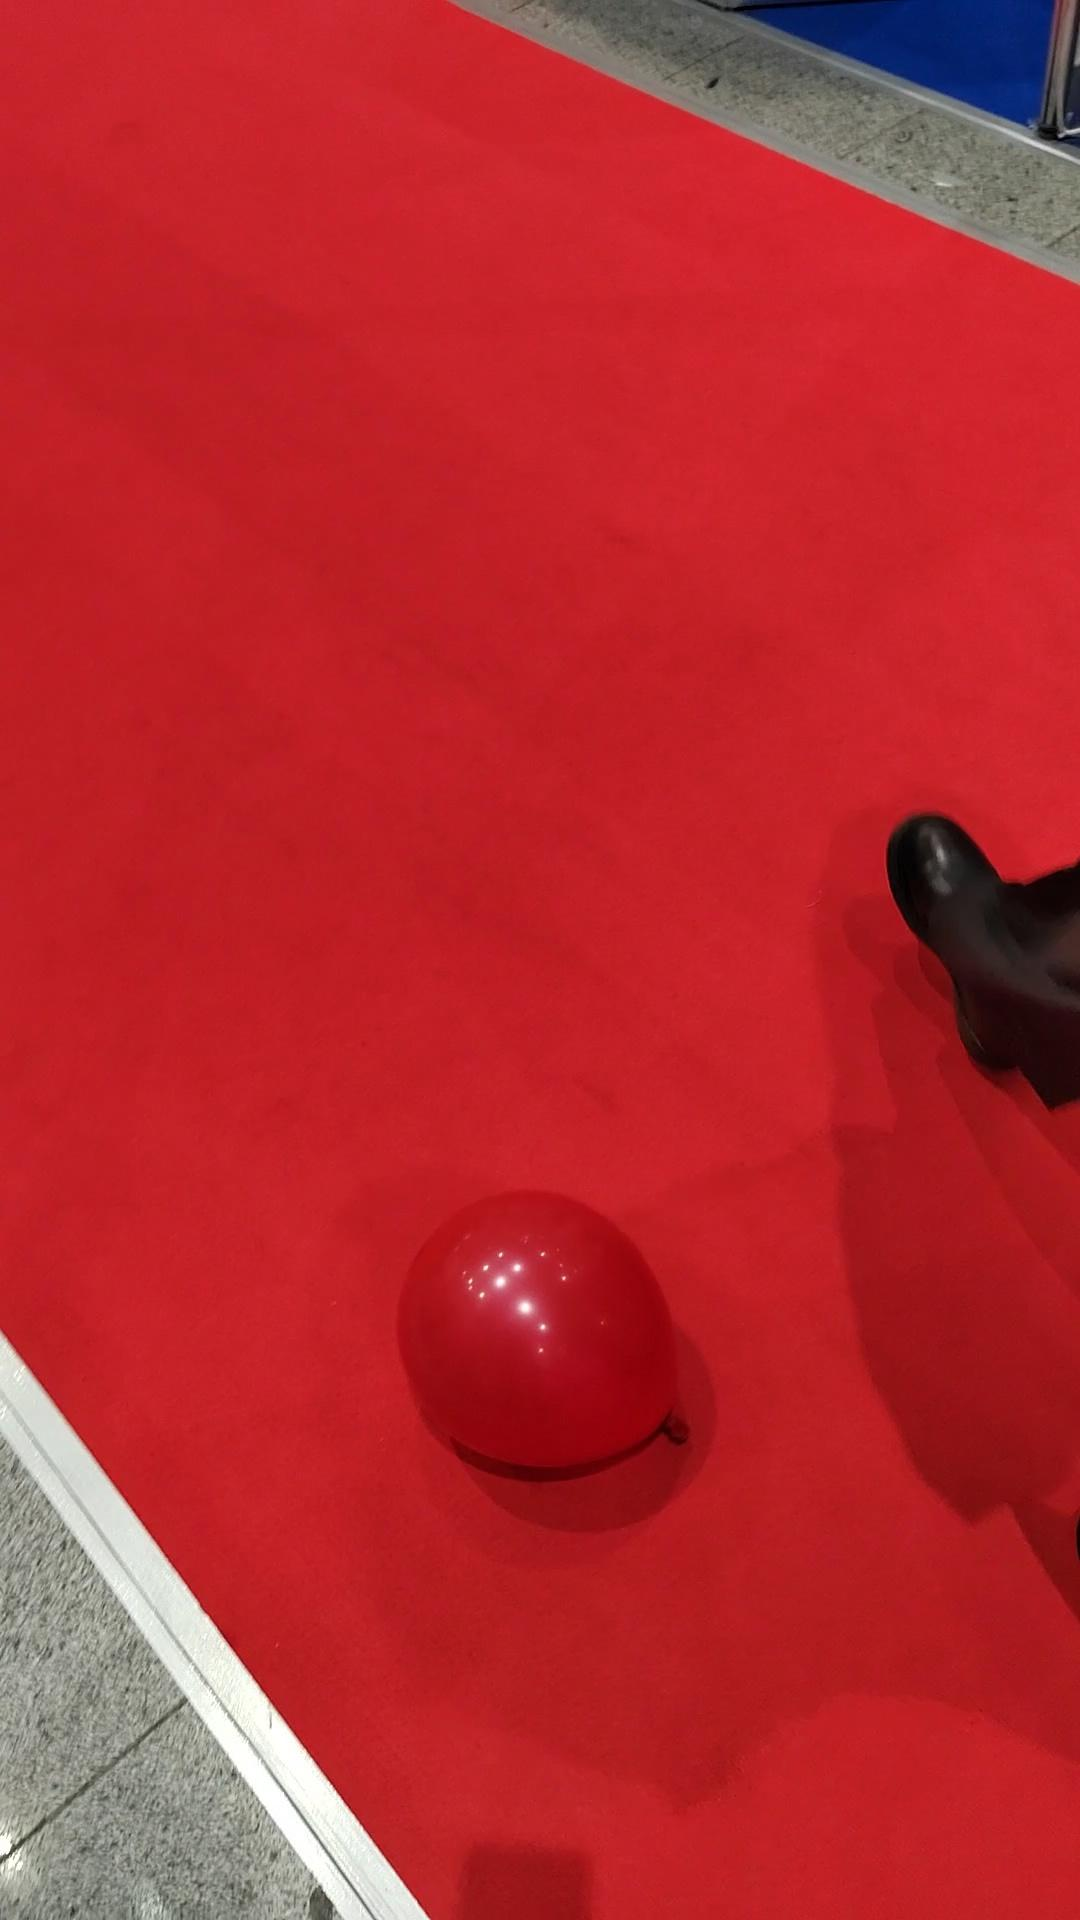red: (393, 1189, 676, 1477)
